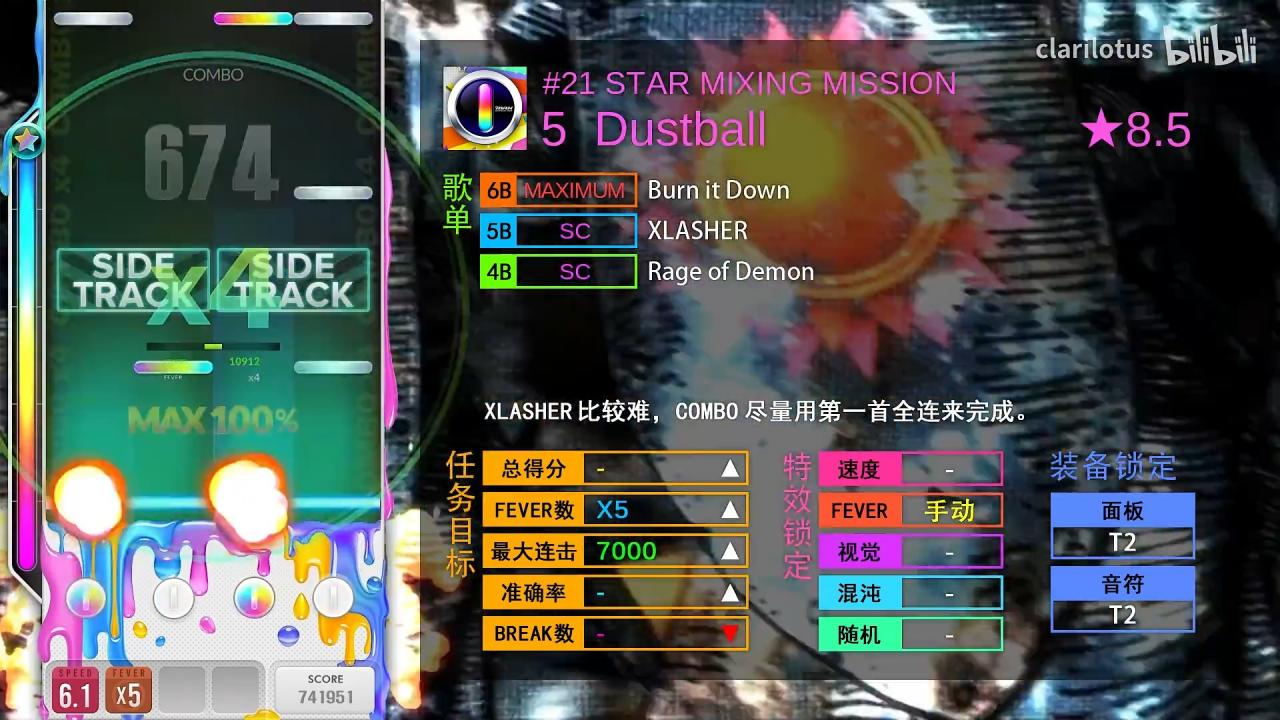note: (294, 360, 374, 376), (53, 12, 133, 26), (293, 12, 373, 26), (134, 360, 214, 374), (294, 186, 372, 200), (214, 12, 294, 25)
